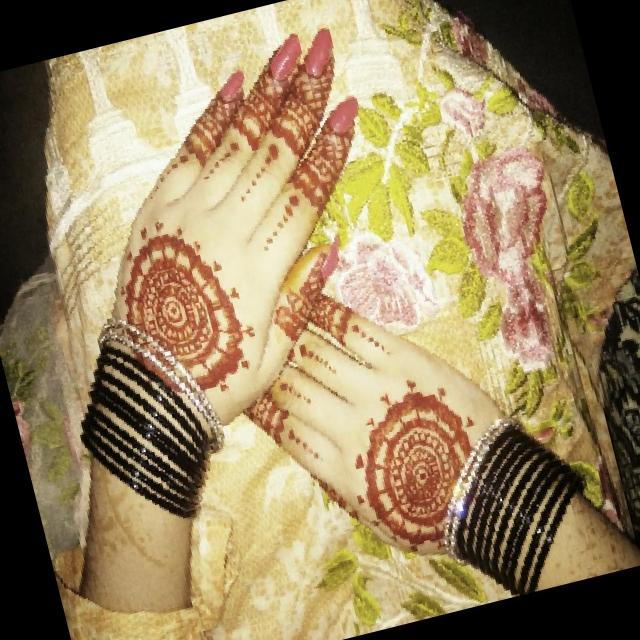Nail: (267, 33, 298, 80), (302, 28, 332, 75), (325, 96, 357, 133), (217, 70, 242, 98), (320, 239, 338, 275)
